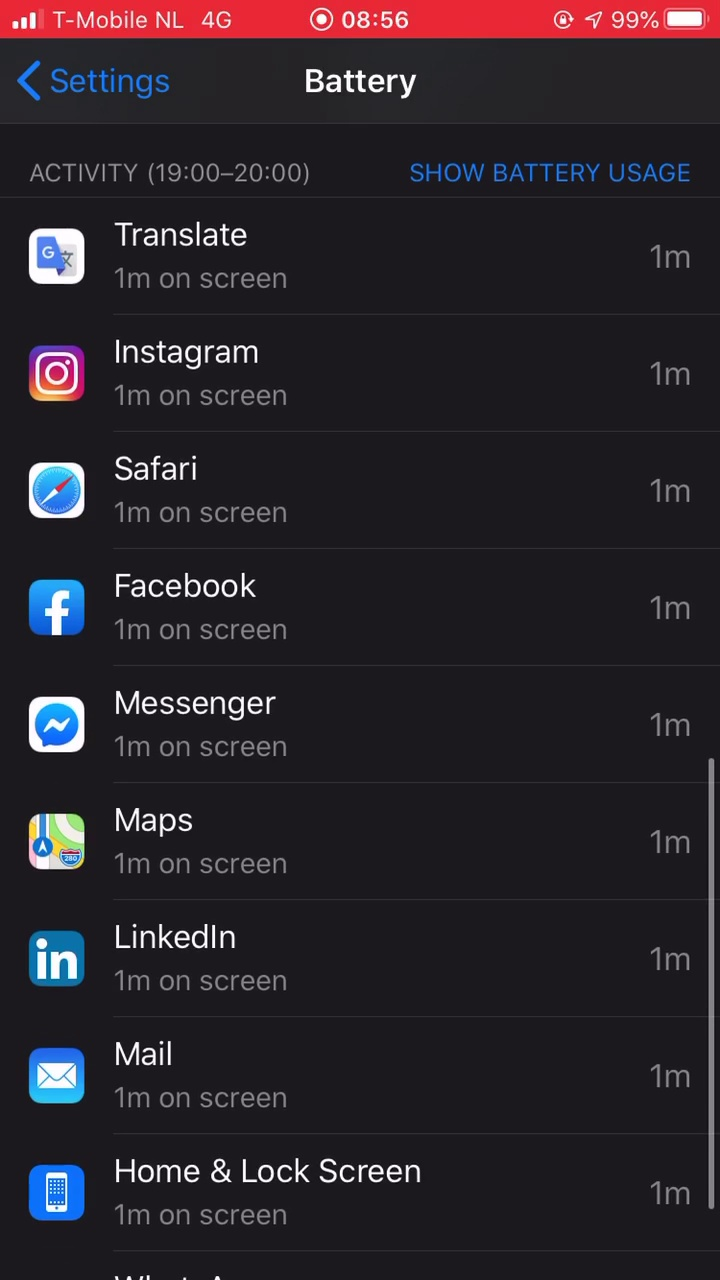activity: (21, 150, 318, 200)
app: (18, 210, 703, 305), (20, 331, 705, 426), (21, 447, 706, 542), (17, 563, 702, 658), (19, 676, 704, 771), (20, 798, 705, 893), (18, 916, 703, 1011), (19, 1031, 704, 1126), (20, 1146, 705, 1241)
